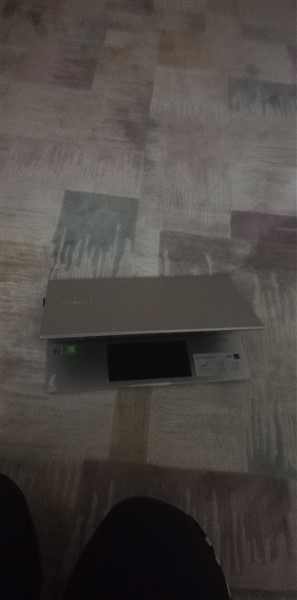laptop: (31, 271, 265, 403)
